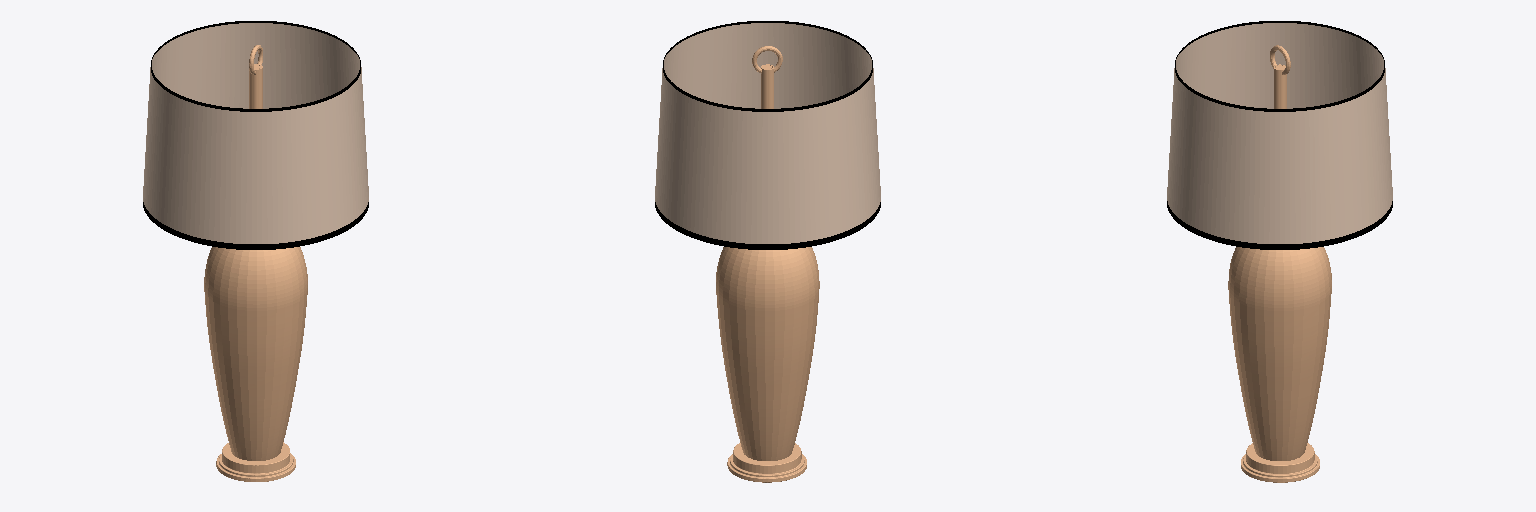
Rendered from light02.obj.
3 views of the same model, side by side, from view 1: azimuth 30°, elevation 25°; view 2: azimuth 150°, elevation 25°; view 3: azimuth 270°, elevation 25° (orthographic).
Parts seen in each view (by area): view 1: Object.1; view 2: Object.1; view 3: Object.1.
Boxes of the visible parts, <box> form: Object.1: <box>143,21,368,481</box>; Object.1: <box>655,21,880,482</box>; Object.1: <box>1167,21,1392,482</box>.
Bounding box in the file's own units: 63.67 × 130 × 63.67.